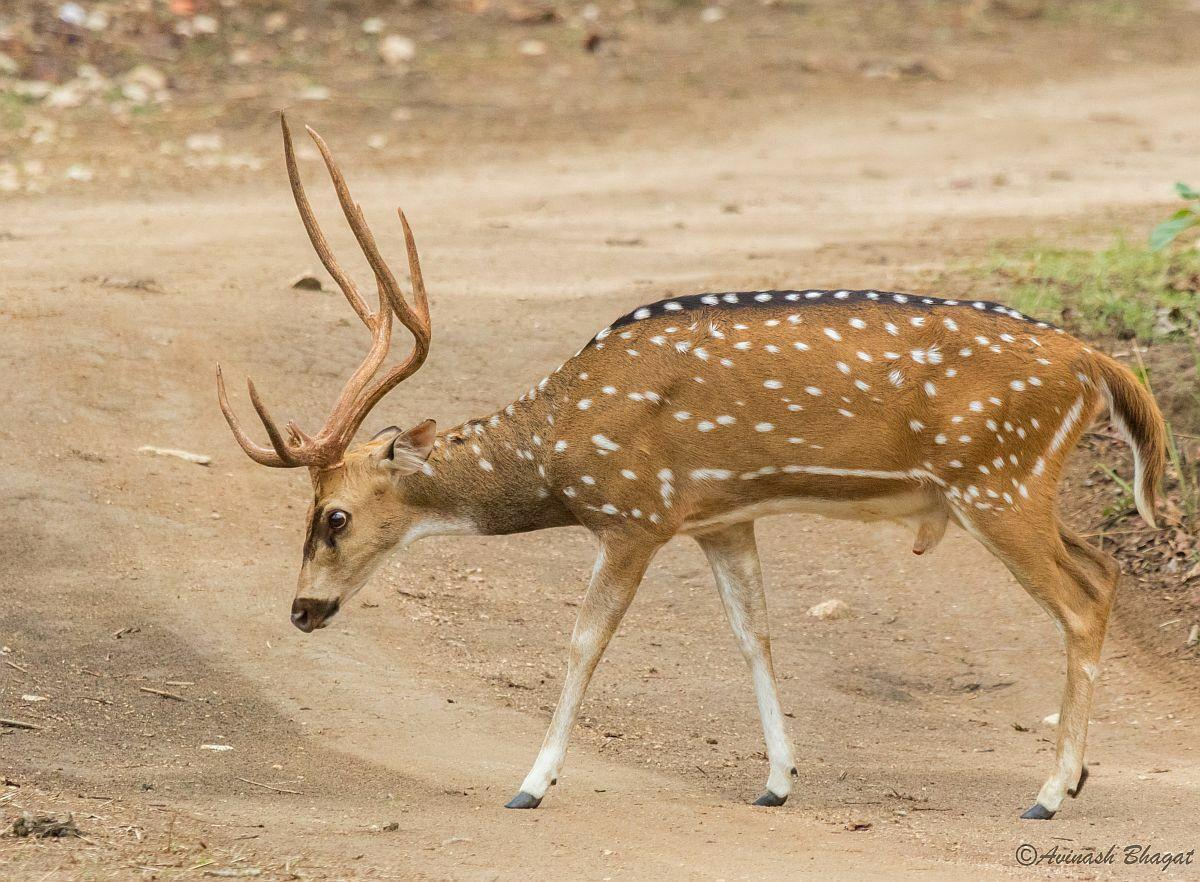Deer: (217, 115, 1166, 818)
